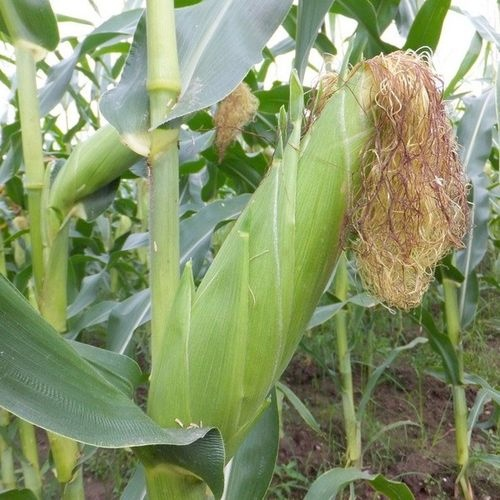corn_plant: (138, 37, 454, 468)
